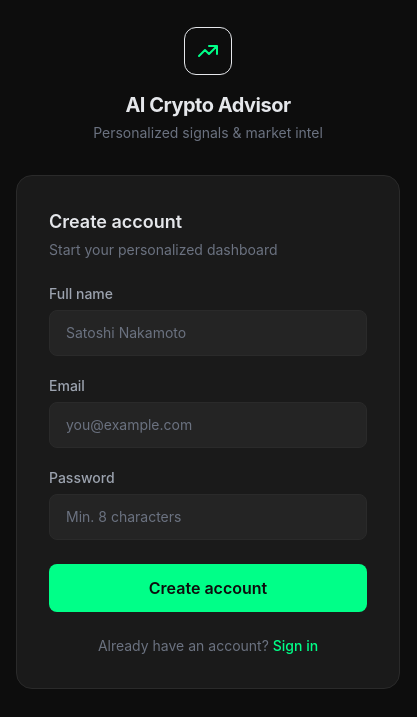
validates min password length
Type "Test" into the field with placeholder "Satoshi Nakamoto".
click(208, 333); type("Test")  # box top-left (49, 310), bottom-right (367, 356)
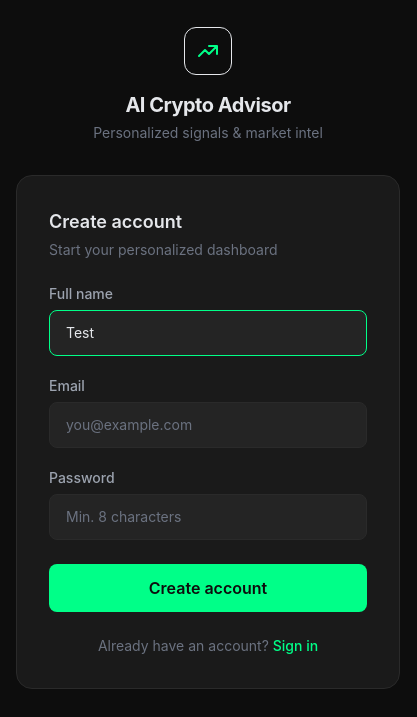
Type "a@b.com" into the field with placeholder "you@example.com".
click(208, 425); type("a@b.com")  # box top-left (49, 402), bottom-right (367, 448)
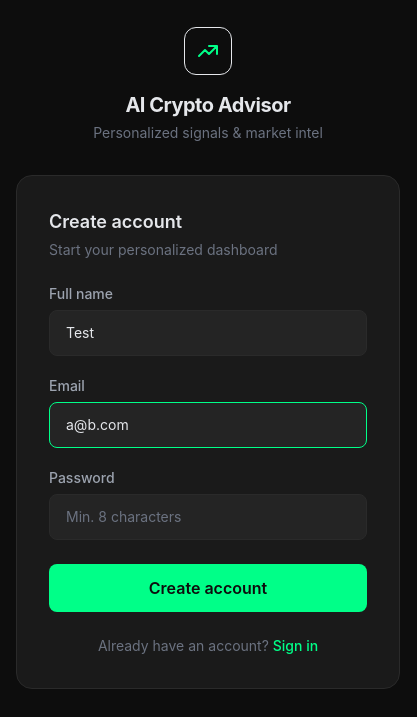
Type "short" into the password field with placeholder "Min. 8 characters".
click(208, 517); type("short")  # box top-left (49, 494), bottom-right (367, 540)
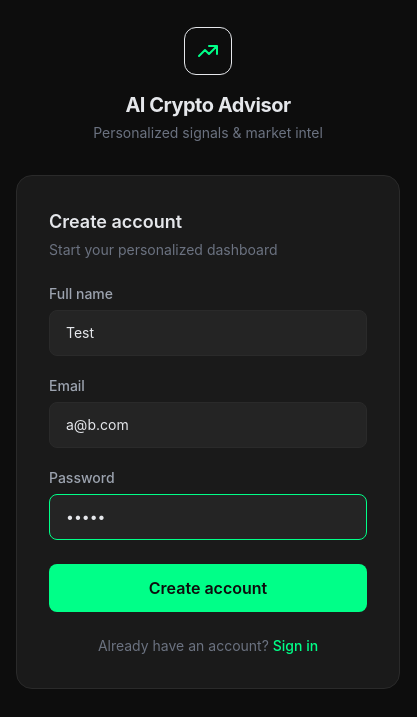
Click the button "Create account".
click(208, 588)  # box top-left (49, 564), bottom-right (367, 612)
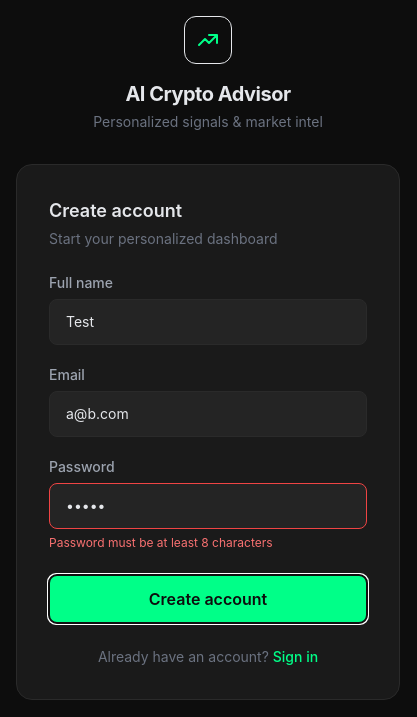
Expected: the text "Password must be at least 8 characters" is shown, top-left (49, 535), bottom-right (273, 550)
